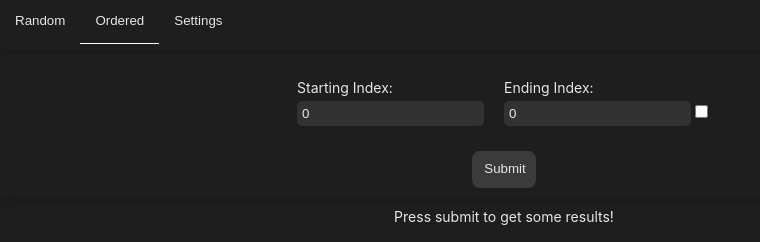
OrderedWowSearchComponent › As a user, I should get no quotes from an ordered search with non-matching criteria
The width and height of the screenshot is (760, 242).
Replace the text in the number field with id "start-index-input" with "100" at (391, 114), box x1=297 y1=101 x2=484 y2=126
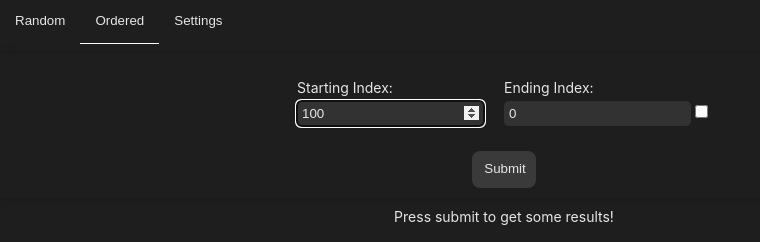
Leave the number field with id "start-index-input", box x1=297 y1=101 x2=484 y2=126
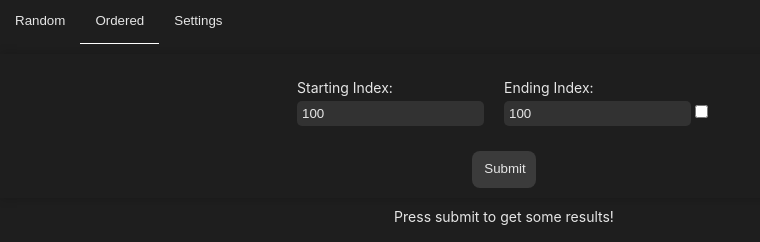
Expected: the number field with id "end-index-input" is disabled, x1=504 y1=101 x2=691 y2=126
Click the button with id "submit-button".
click(504, 170)  # box x1=472 y1=151 x2=536 y2=188
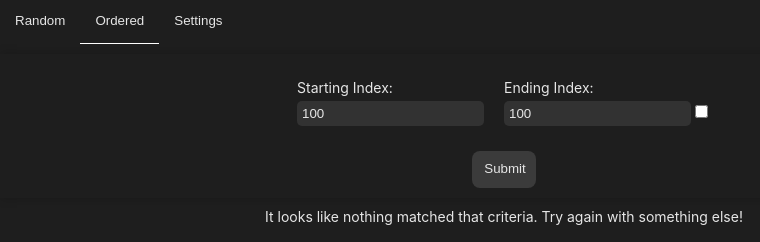
Now the 3rd label reads "It looks like nothing matched that criteria. Try again with something else!", box x1=265 y1=208 x2=743 y2=225
